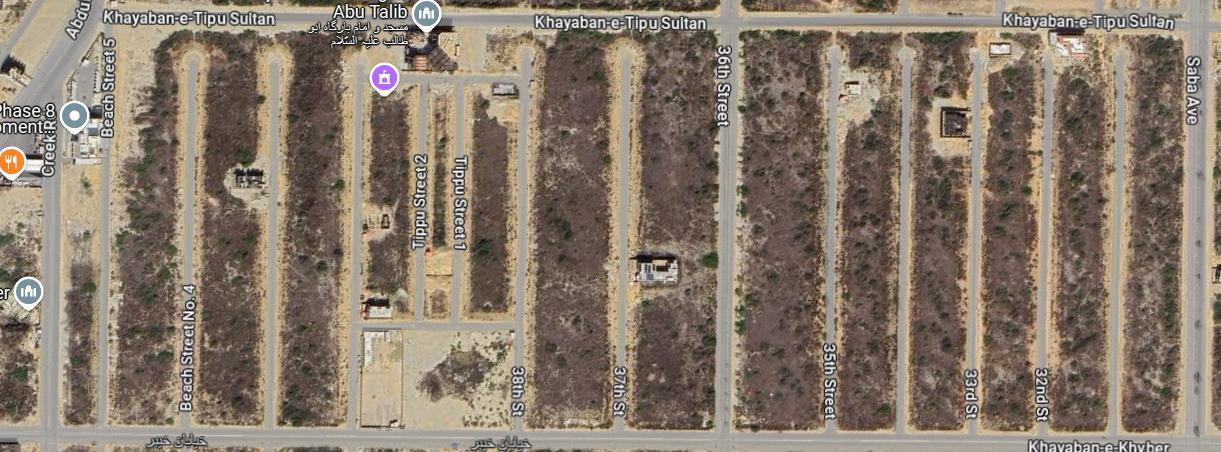Buildings: (362, 80, 516, 327), (527, 24, 619, 429), (736, 30, 829, 430), (629, 27, 721, 424), (194, 27, 271, 424), (276, 23, 349, 425), (109, 23, 182, 419), (1124, 27, 1185, 433), (980, 27, 1041, 432), (837, 26, 898, 431), (1047, 26, 1108, 428), (908, 28, 968, 434), (60, 29, 105, 418), (361, 332, 510, 431), (365, 24, 522, 73)
